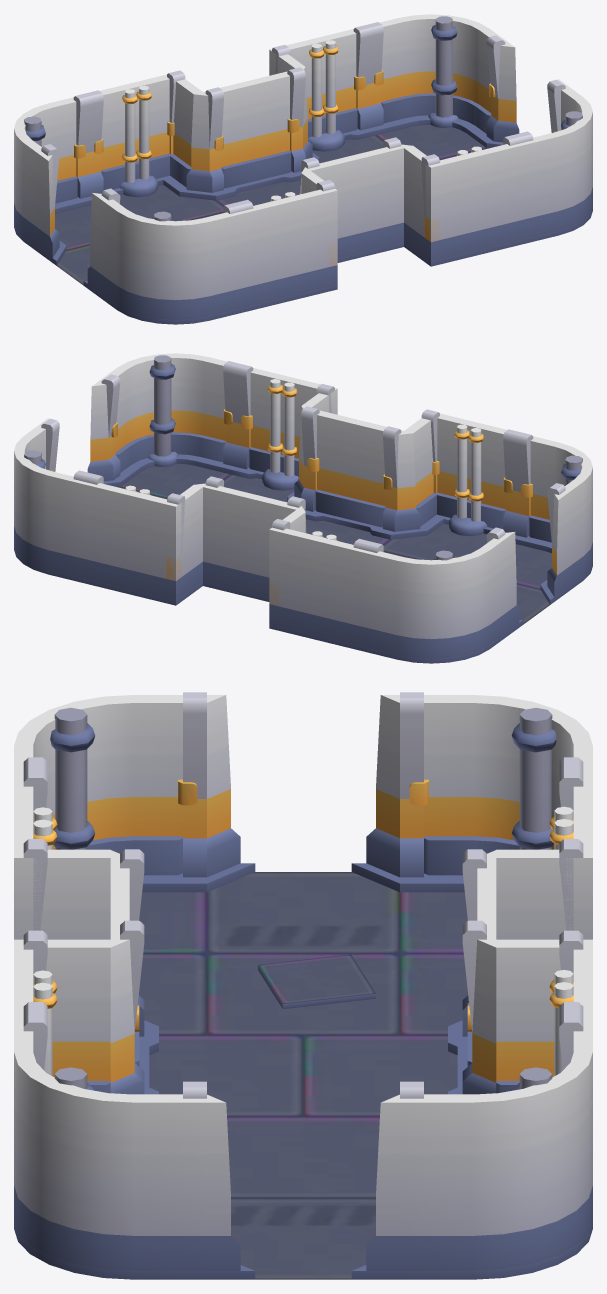
Rendered from room-wide-variation.glb.
3 views of the same model, one above another, from view 1: azimuth 30°, elevation 25°; view 2: azimuth 150°, elevation 25°; view 3: azimuth 270°, elevation 25° (orthographic). The views are drawn at different scales.
Visible parts, largest first — view 1: room-wide-variation; view 2: room-wide-variation; view 3: room-wide-variation.
Part boxes in pixels (x1,y1,x2,y2): room-wide-variation: (14, 14, 592, 324); room-wide-variation: (14, 353, 592, 663); room-wide-variation: (14, 692, 592, 1279).
Bounding box in the file's own units: 20 × 4.25 × 12.
1 material, 1 textured.
